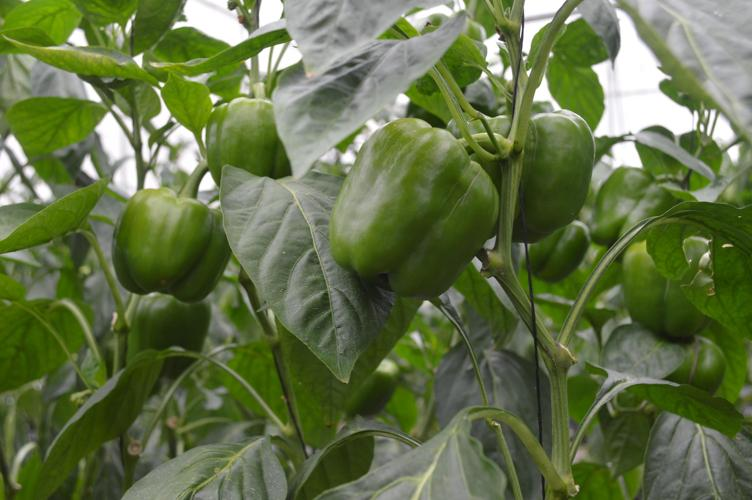BellPepper: (326, 116, 502, 301), (457, 107, 594, 246), (115, 188, 231, 298), (622, 241, 713, 341), (117, 296, 210, 379), (201, 97, 288, 184), (591, 166, 671, 247), (513, 222, 589, 283), (662, 337, 726, 397)
